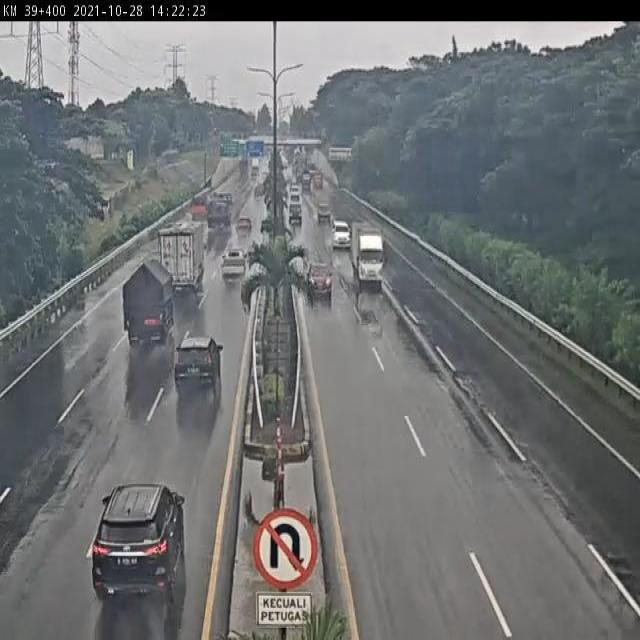car: (92, 479, 187, 600), (174, 337, 223, 392), (222, 248, 246, 285), (307, 259, 333, 293), (237, 215, 254, 233)
truck-l-: (152, 222, 202, 302), (204, 191, 231, 233)
truck-m-: (121, 260, 174, 352)
truck-s-: (350, 221, 388, 291)
